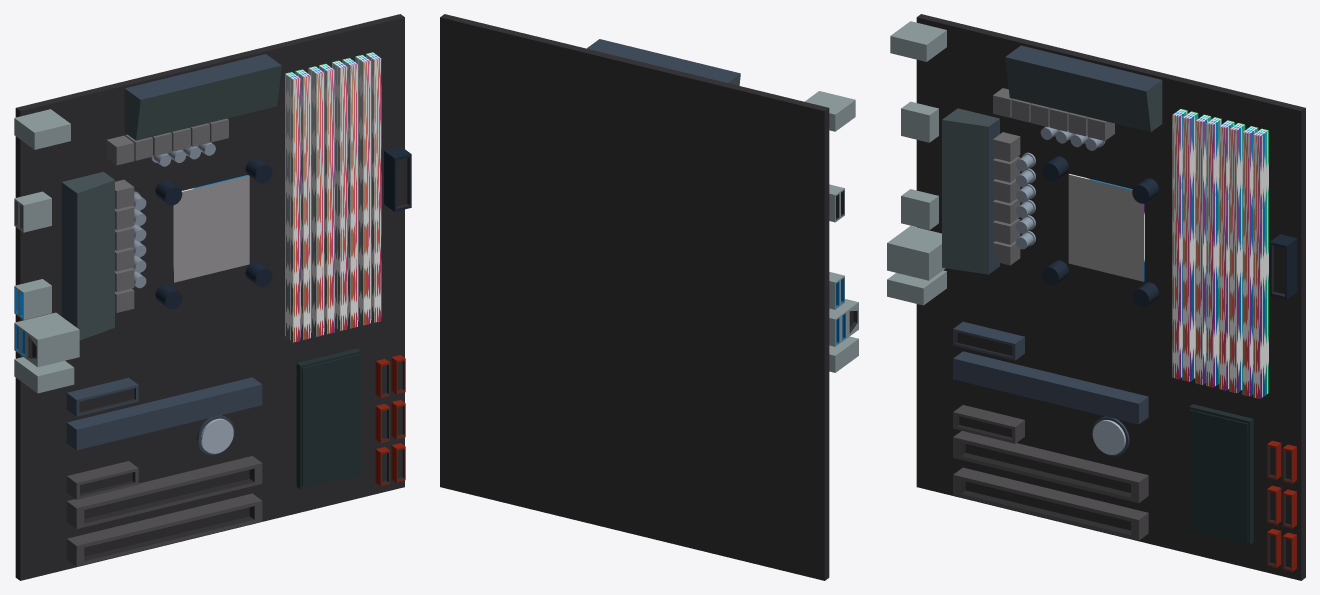
File: motherboard.glb
3 views of the same model, side by side, from view 1: azimuth 30°, elevation 25°; view 2: azimuth 150°, elevation 25°; view 3: azimuth 330°, elevation 25° (orthographic).
Visible parts, largest first — view 1: Cube.078, Cube.098, Cube.097, Cube.099, RAM1_P, CPU_SOCKET, RAM2_P, RAM4_P, RAM3_P, GPU_P, Cube.119, Cube.094 (+18 smaller); view 2: Cube.078, Cube.098, Cube.101, Cube.104, Cube.100, Cube.102, Cube.103; view 3: Cube.078, Cube.098, Cube.097, Cube.099, RAM4_P, CPU_SOCKET, RAM2_P, RAM3_P, RAM1_P, GPU_P, Cube.119, Cube.094 (+21 smaller).
Part boxes in pixels (left/top/right/bottom): Cube.078: left=15, top=14, right=404, bottom=580; Cube.098: left=124, top=54, right=281, bottom=140; Cube.097: left=61, top=171, right=114, bottom=340; Cube.099: left=296, top=348, right=360, bottom=489; RAM1_P: left=285, top=69, right=310, bottom=342; CPU_SOCKET: left=173, top=175, right=249, bottom=282; RAM2_P: left=308, top=63, right=334, bottom=336; RAM4_P: left=355, top=52, right=381, bottom=325; RAM3_P: left=332, top=58, right=357, bottom=330; GPU_P: left=66, top=377, right=262, bottom=450; Cube.119: left=66, top=493, right=262, bottom=566; Cube.094: left=66, top=456, right=262, bottom=528; Cube.078: left=440, top=14, right=829, bottom=580; Cube.098: left=587, top=39, right=740, bottom=85; Cube.101: left=829, top=299, right=858, bottom=346; Cube.104: left=804, top=91, right=855, bottom=131; Cube.100: left=829, top=336, right=858, bottom=372; Cube.102: left=829, top=272, right=844, bottom=309; Cube.103: left=829, top=184, right=844, bottom=222; Cube.078: left=916, top=14, right=1305, bottom=580; Cube.098: left=1005, top=45, right=1162, bottom=132; Cube.097: left=942, top=108, right=999, bottom=274; Cube.099: left=1189, top=404, right=1253, bottom=544; RAM4_P: left=1242, top=126, right=1268, bottom=399; CPU_SOCKET: left=1068, top=174, right=1144, bottom=281; RAM2_P: left=1195, top=114, right=1221, bottom=387; RAM3_P: left=1219, top=120, right=1245, bottom=393; RAM1_P: left=1172, top=109, right=1198, bottom=381; GPU_P: left=953, top=351, right=1148, bottom=424; Cube.119: left=953, top=467, right=1148, bottom=540; Cube.094: left=953, top=431, right=1148, bottom=502.
Bounding box in the file's own units: 0.6504 × 0.747 × 0.0808.
2 materials, 2 textured.
